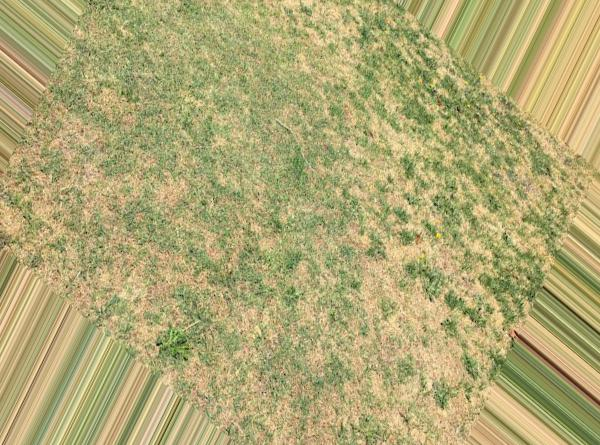patch: (375, 256, 475, 382), (55, 154, 122, 256), (197, 238, 245, 282), (371, 122, 408, 174), (318, 23, 354, 66)
